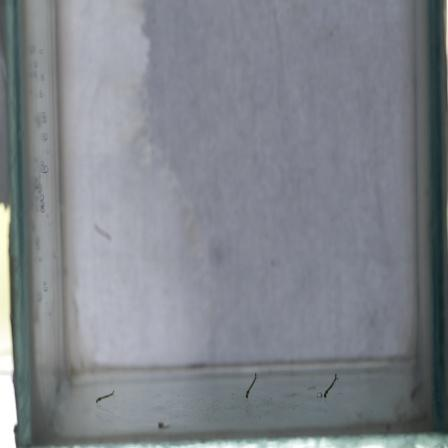Jentik-Nyamuk: (318, 368, 341, 399), (242, 368, 263, 399), (93, 386, 117, 408)
